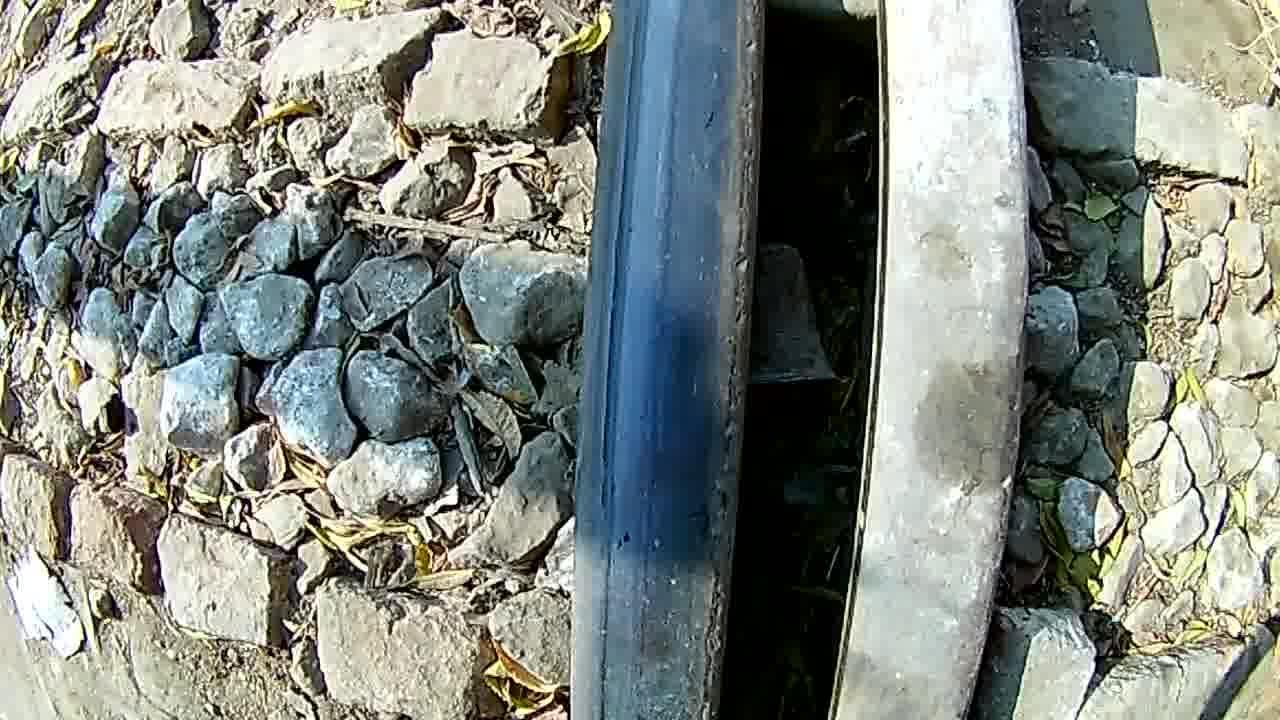crack: (567, 0, 774, 720)
